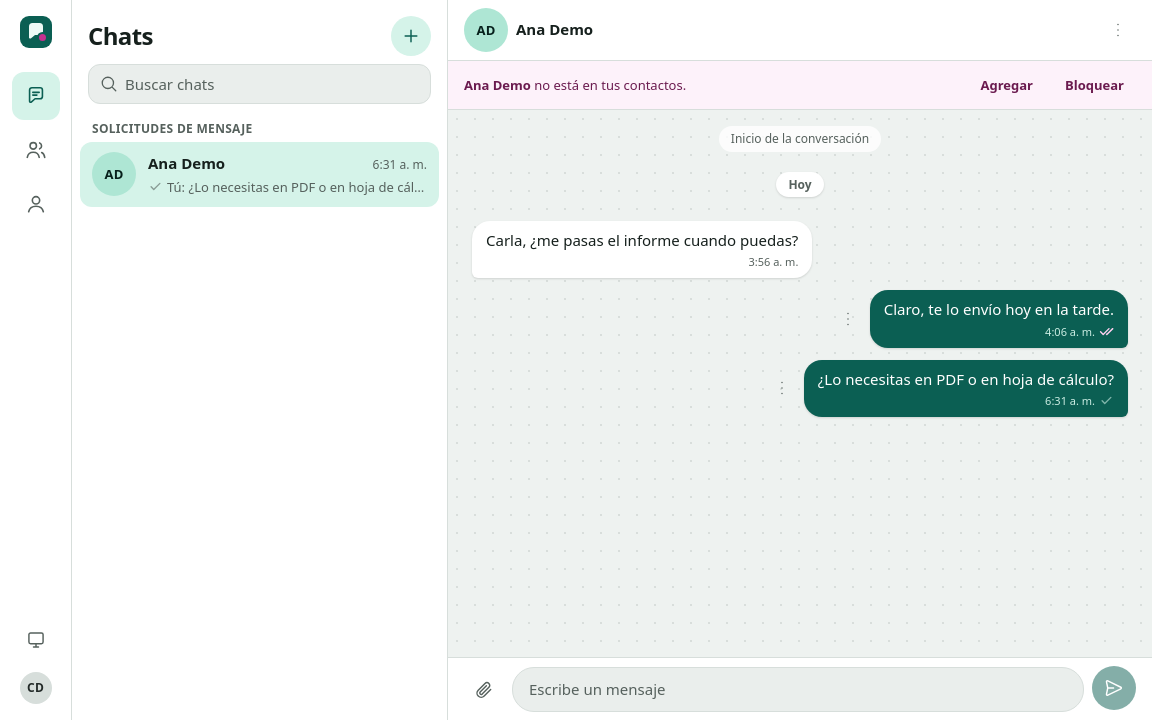
conversación › en una solicitud de mensaje (no es contacto) ofrece agregar o bloquear
Check: the element showing "Ana Demo no está en tus contactos. Agregar Bloquear" is shown, box [448,61,1151,110]
Click the button "Bloquear" at (1094, 85), box [1053,71,1136,99]
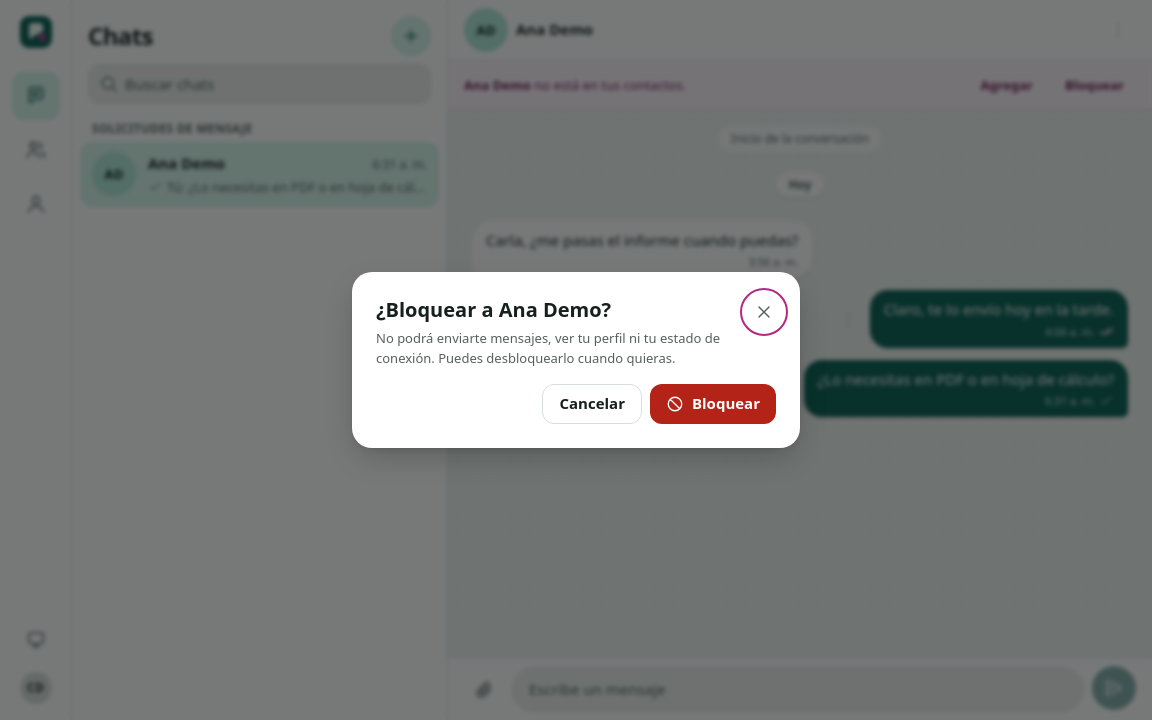
Click the button "Bloquear" at (713, 404), box [650,384,776,424]
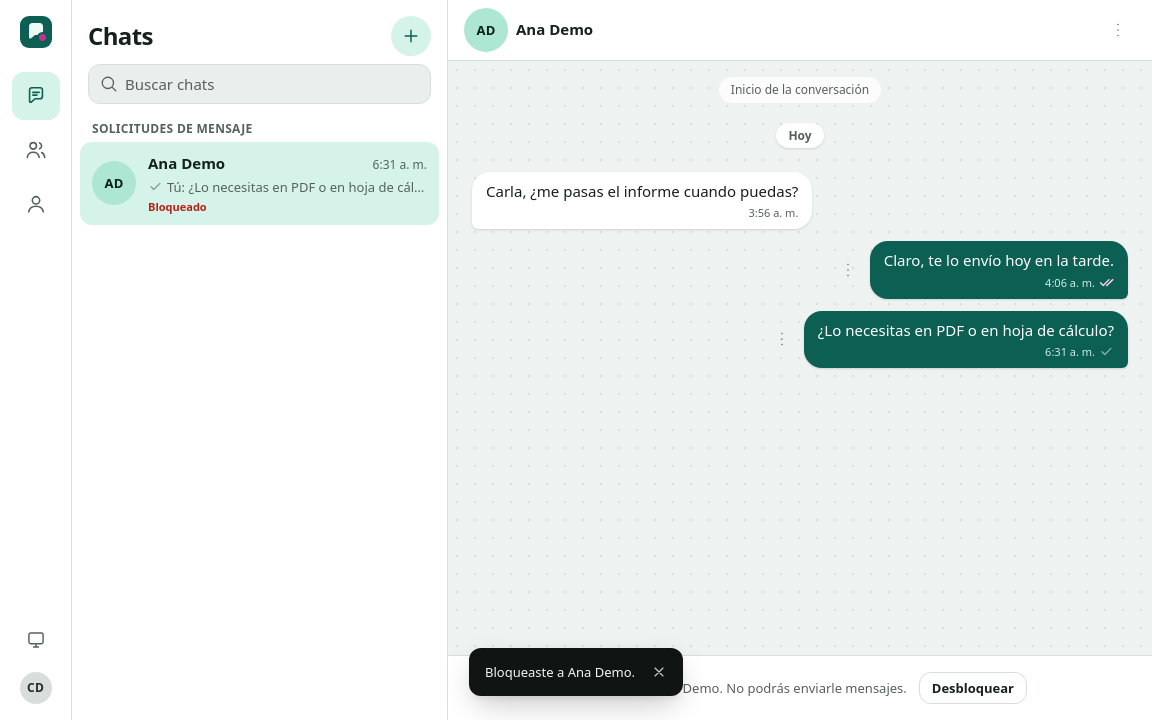
Check: the field labelled "Escribe un mensaje" is not shown
Check: the text "Bloqueaste a Ana Demo. No podrás enviarle mensajes." is shown, box [573,678,907,698]
